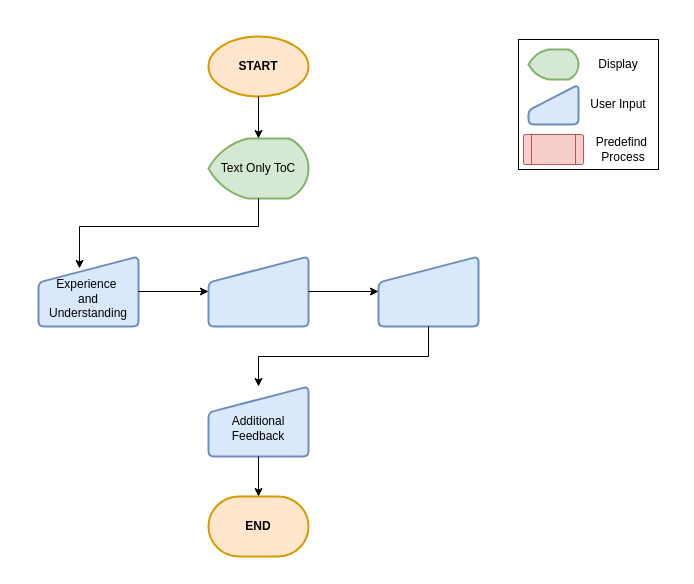
The diagram is 694 pixels wide and 584 high, and some of its shapes have lost their labels. The shapes that lost their labels are listed below. From the top down, each one's box as (x1, y1, x2, y2) in pixels, then its label:
(207, 255, 309, 327): Comprehension
(377, 255, 479, 327): NASA Task Load Index
